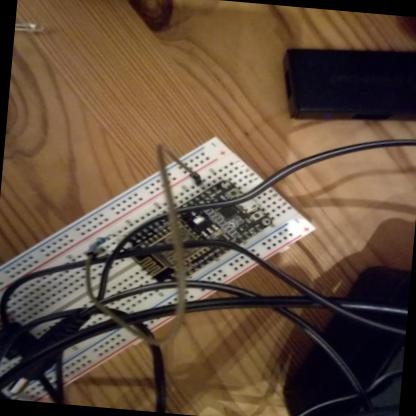ESP8266: (119, 170, 279, 296)
